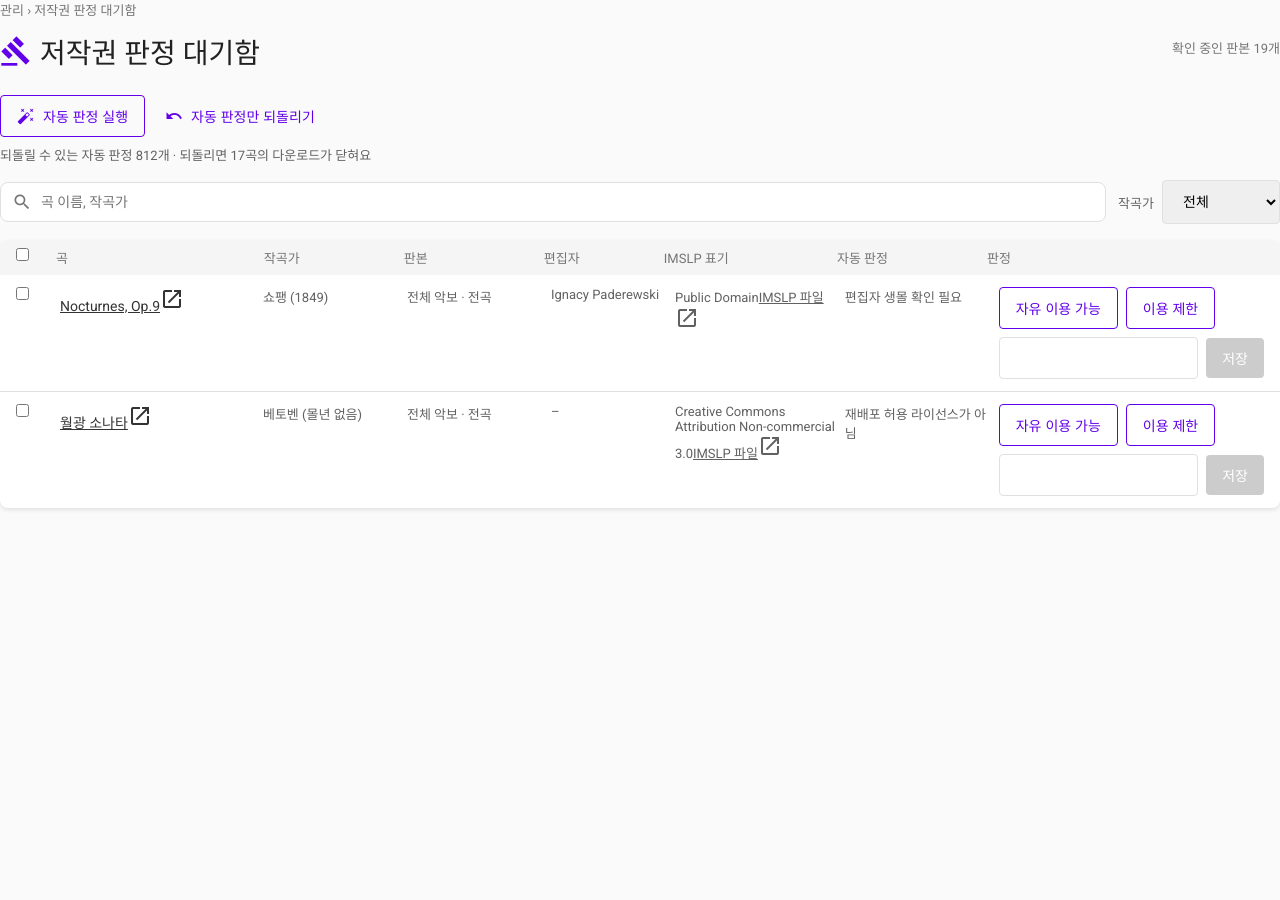
Test: 대기함 — 되돌린 직후의 창 (02 §5-8-1 화면 계약 2-1·2-2) › 새 응답이 되돌릴 것이 있다고 하면 버튼이 돌아온다 — 그 사이 다른 관리자가 실행했을 수 있다
This screenshot has width=1280, height=900.
Click the button "자동 판정만 되돌리기" at [240, 116], box [153,98,327,134]
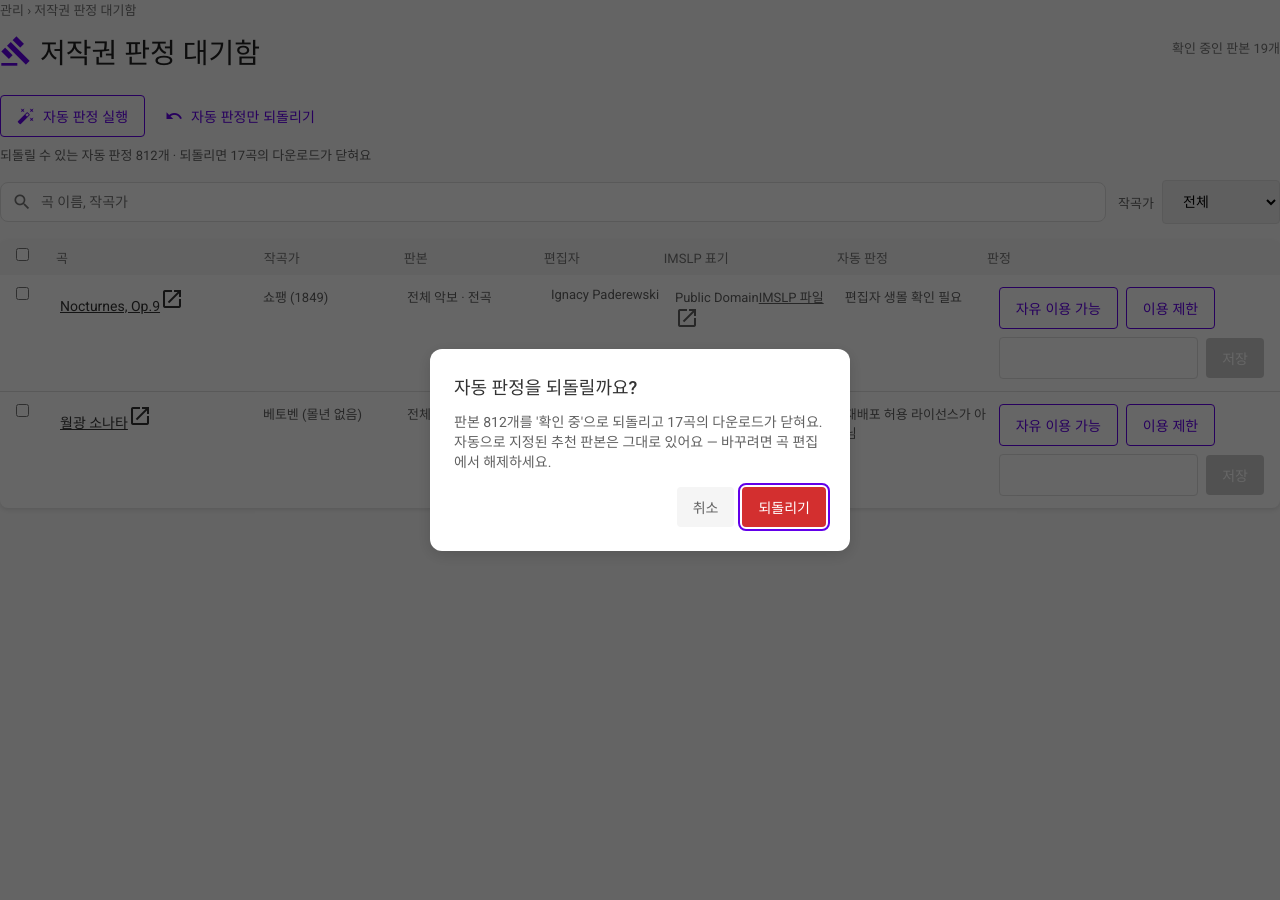
Click the button "되돌리기" at [784, 507], box [742,487,826,527]
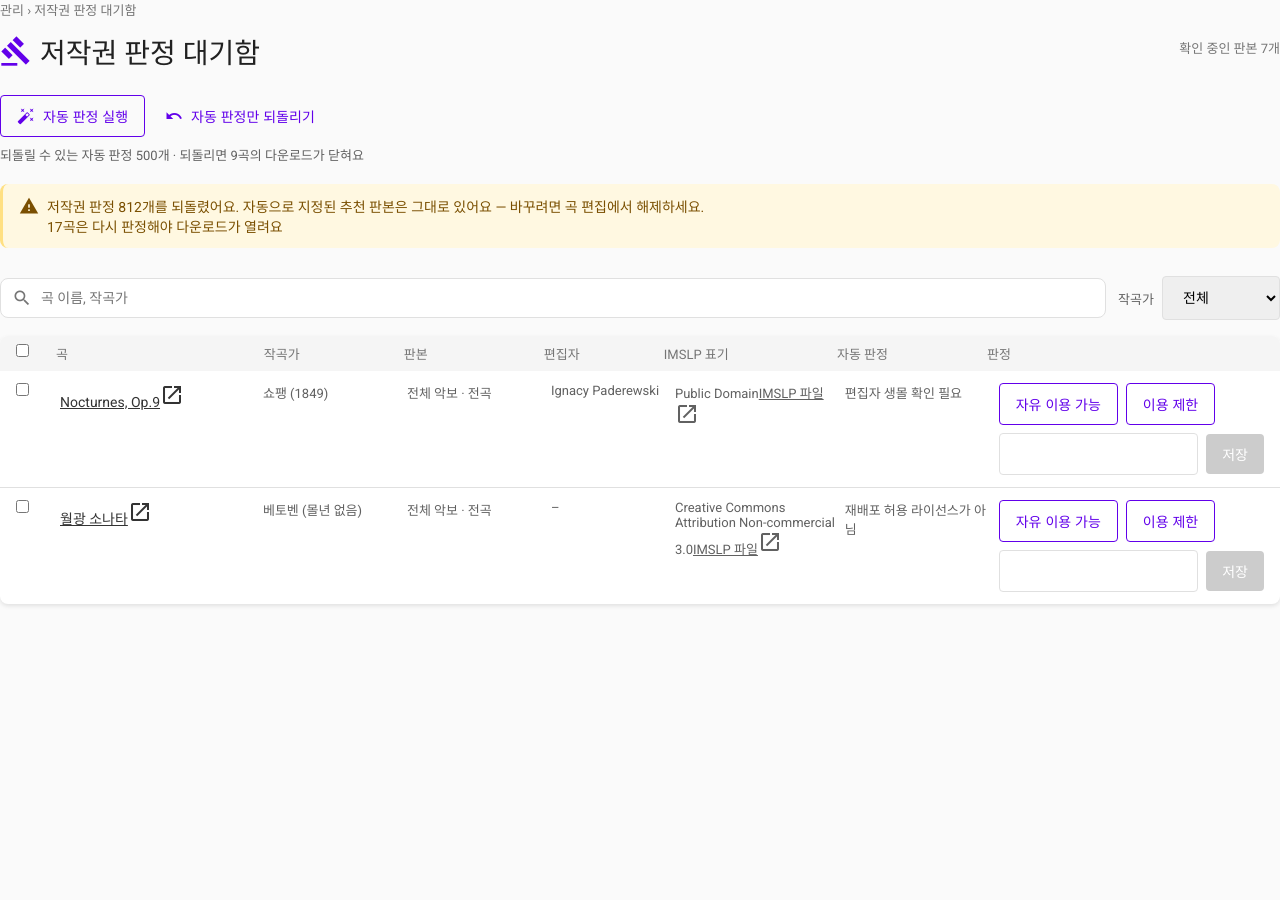
expect the text "저작권 판정 812개를 되돌렸어요" is shown: met, box [47,199,704,215]
expect the text "되돌릴 수 있는 자동 판정 500개" is shown: met, box [0,148,170,163]
expect the text "되돌리면 9곡의 다운로드가 닫혀요" is shown: met, box [170,148,364,163]
